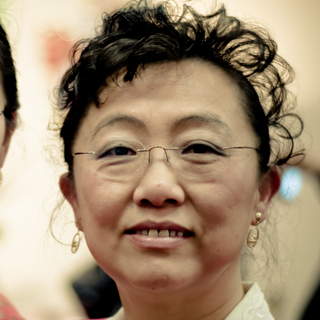eye: (176, 138, 226, 164), (95, 140, 143, 164)
